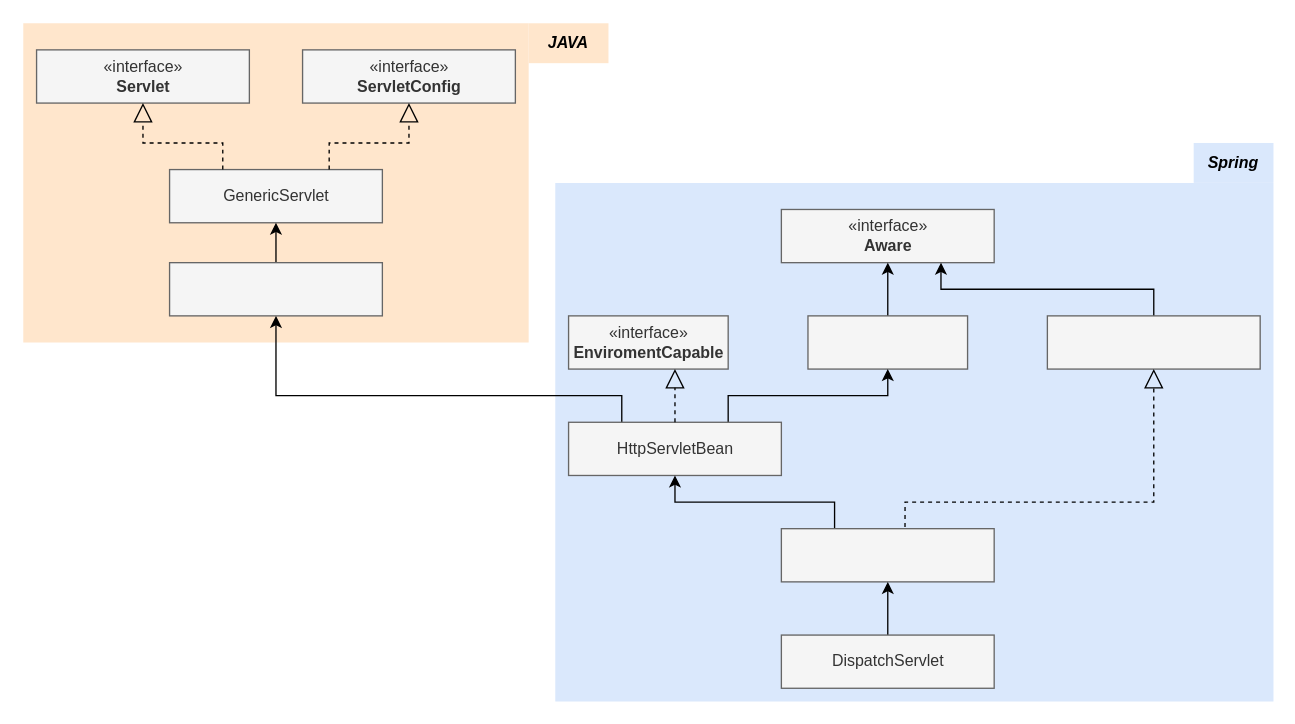
The diagram is 1295 pixels wide and 724 high, and some of its shapes have lost their labels. The shapes that lost their labels are listed below. From the top down, each one's centre as x and y in pixels, then its label:
At [275,288]: "HttpServlet".
At [887,342]: "«interface» EnviromentAware".
At [1153,342]: "«interface» ApplicationContextAware".
At [887,554]: "FrameworkServlet".
